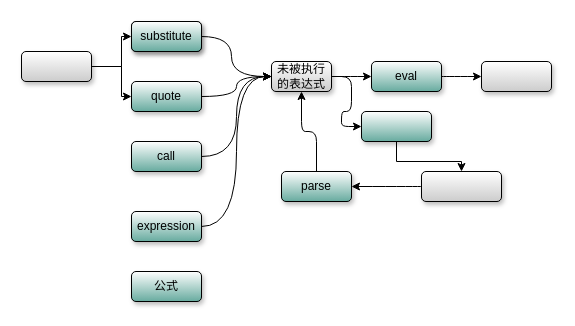
The diagram is 575 pixels wide and 326 high, and some of its shapes have lost their labels. Here are the shapes that lost their labels. From the top down, the centre of each, then its label:
At (x=57, y=67): "表达式".
At (x=517, y=77): "计算结果".
At (x=397, y=127): "deparse".
At (x=462, y=187): "表达式字符串".
